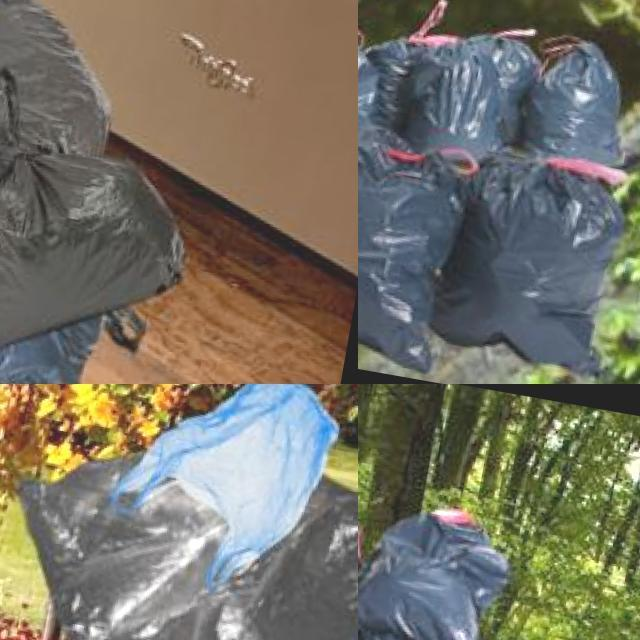waste: (0, 430, 358, 640), (101, 384, 348, 603), (424, 145, 640, 377), (0, 123, 187, 361), (0, 0, 126, 275), (358, 111, 471, 371), (358, 501, 518, 640), (371, 31, 521, 163), (520, 39, 640, 168), (358, 19, 393, 155)
